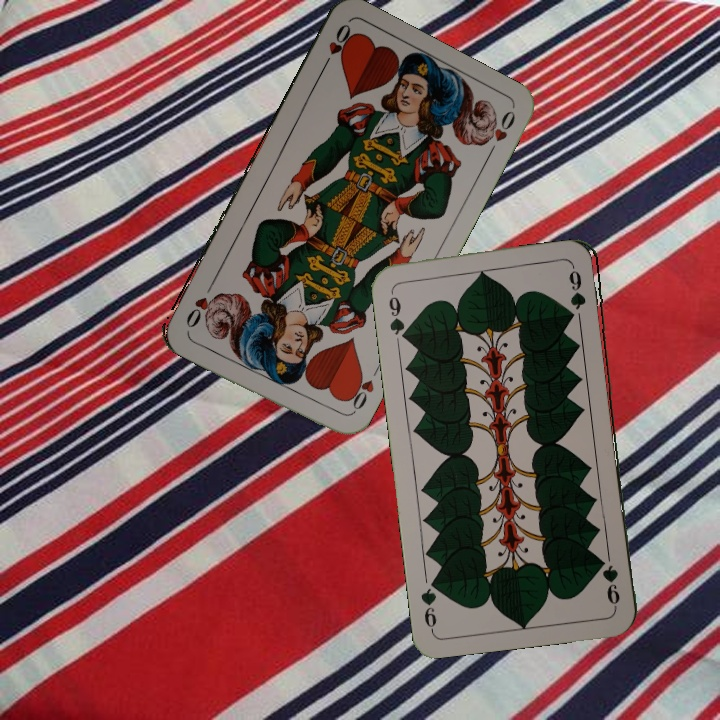G9: (384, 285, 411, 343), (599, 561, 623, 611)
HO: (341, 363, 382, 418), (317, 19, 356, 74)
